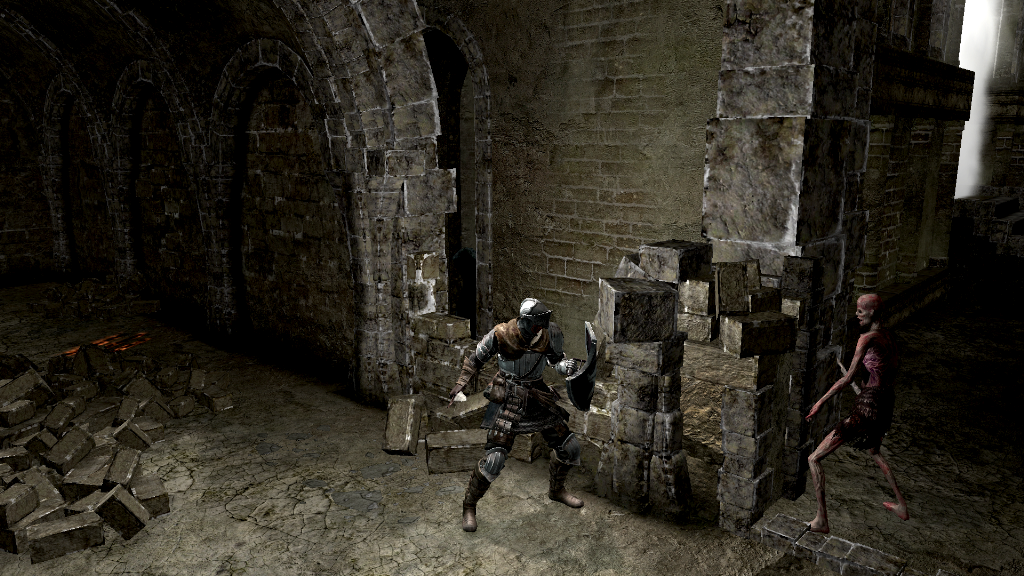hollow: (805, 290, 910, 532)
player: (448, 296, 601, 536)
